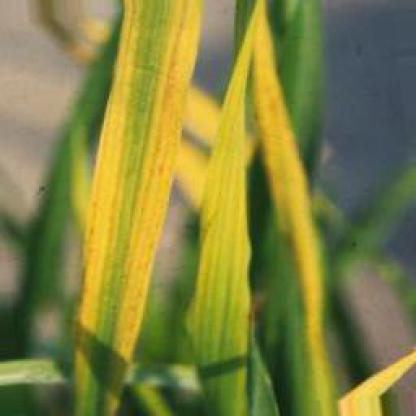Tungro: (68, 5, 200, 416), (255, 6, 354, 416), (199, 3, 258, 411), (344, 355, 416, 414)
